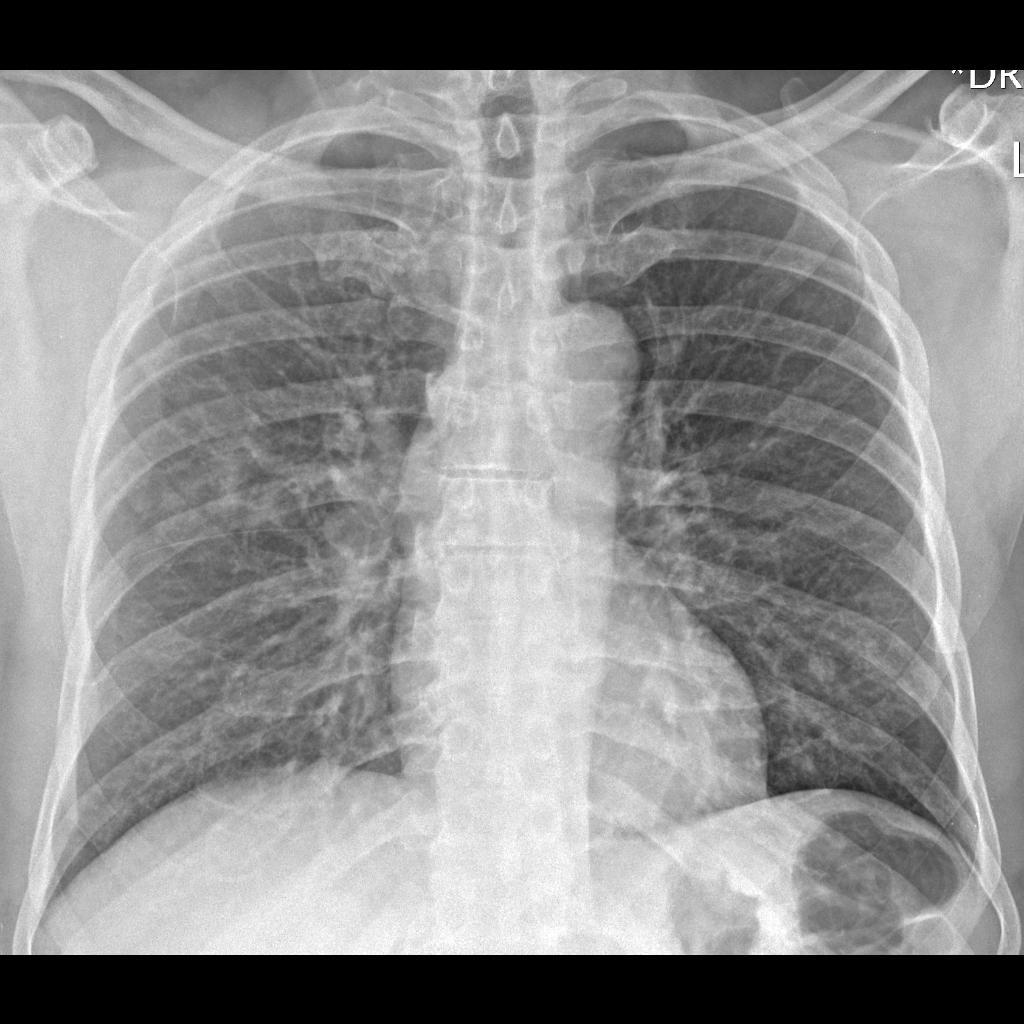Nodule: (798, 643, 843, 691)
